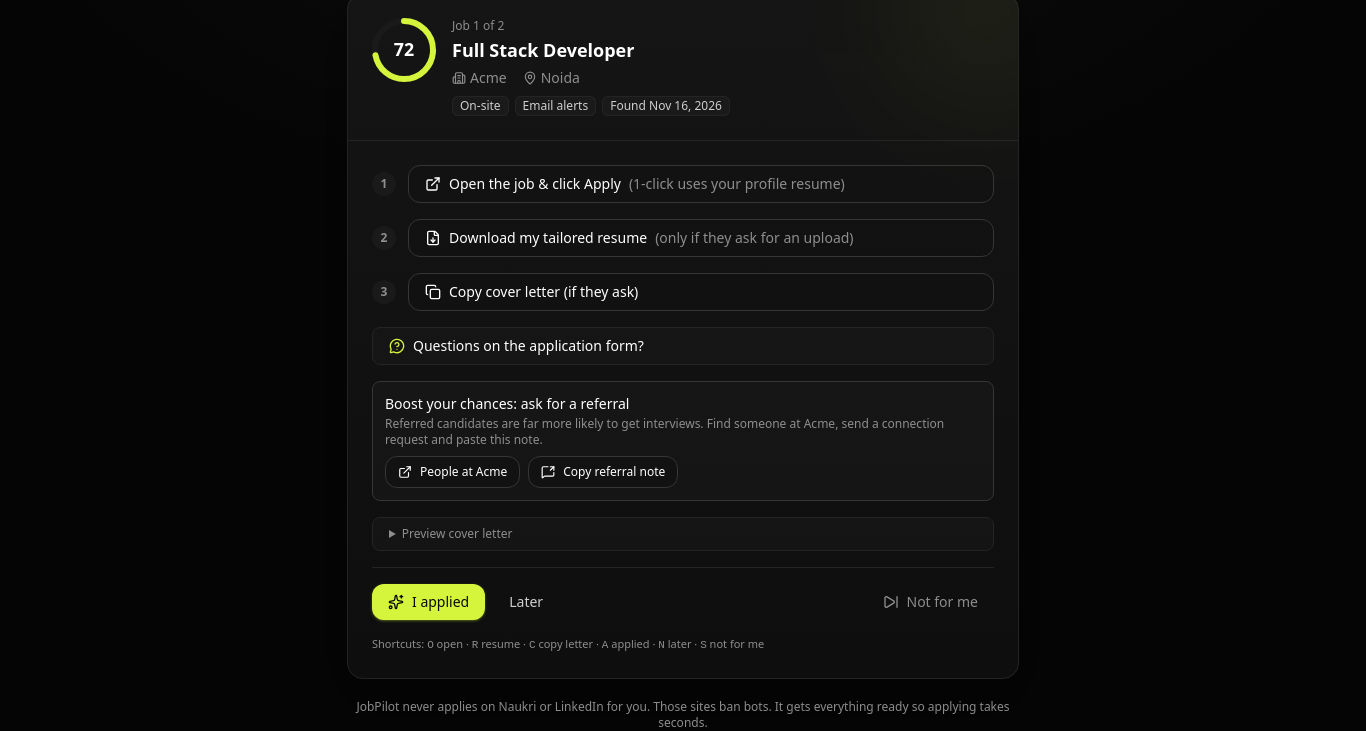
Test: ApplyModePage › shows the job with its documents and records an application
(page scrolled)
Check: the link "Full Stack Developer" is shown, box [452,38,634,62]
Click the button "I applied" at {"x": 429, "y": 602}, box [372,584,485,620]
(page scrolled)
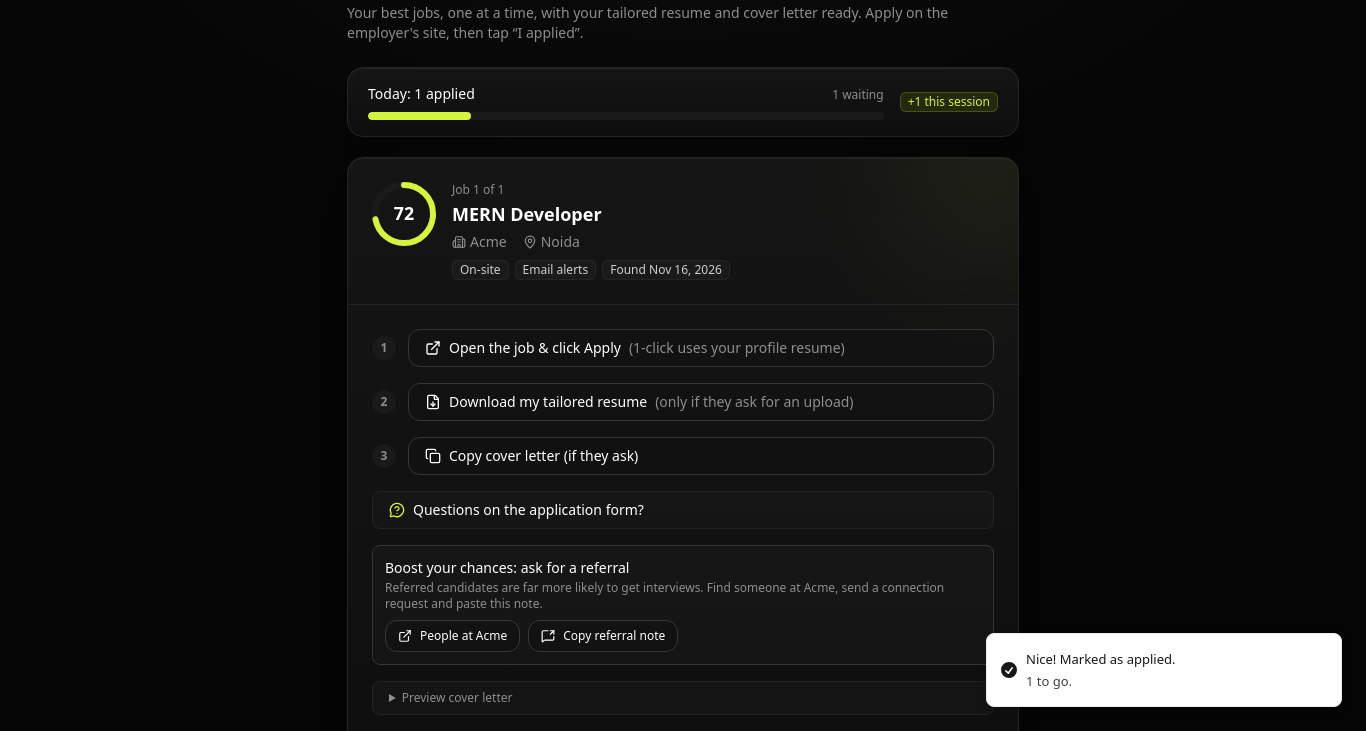
Check: the link "MERN Developer" is shown, box [452,202,602,226]
Check: the text "Today: 1 applied" is shown, box [368,84,475,104]
